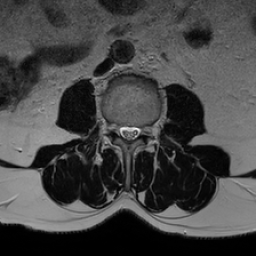CCS_stenosis: (126, 116, 133, 150)
LFS_normal: (141, 116, 149, 144)
LLS_normal: (133, 116, 141, 146)
RFS_normal: (110, 113, 118, 140)
RLS_normal: (118, 117, 126, 144)
